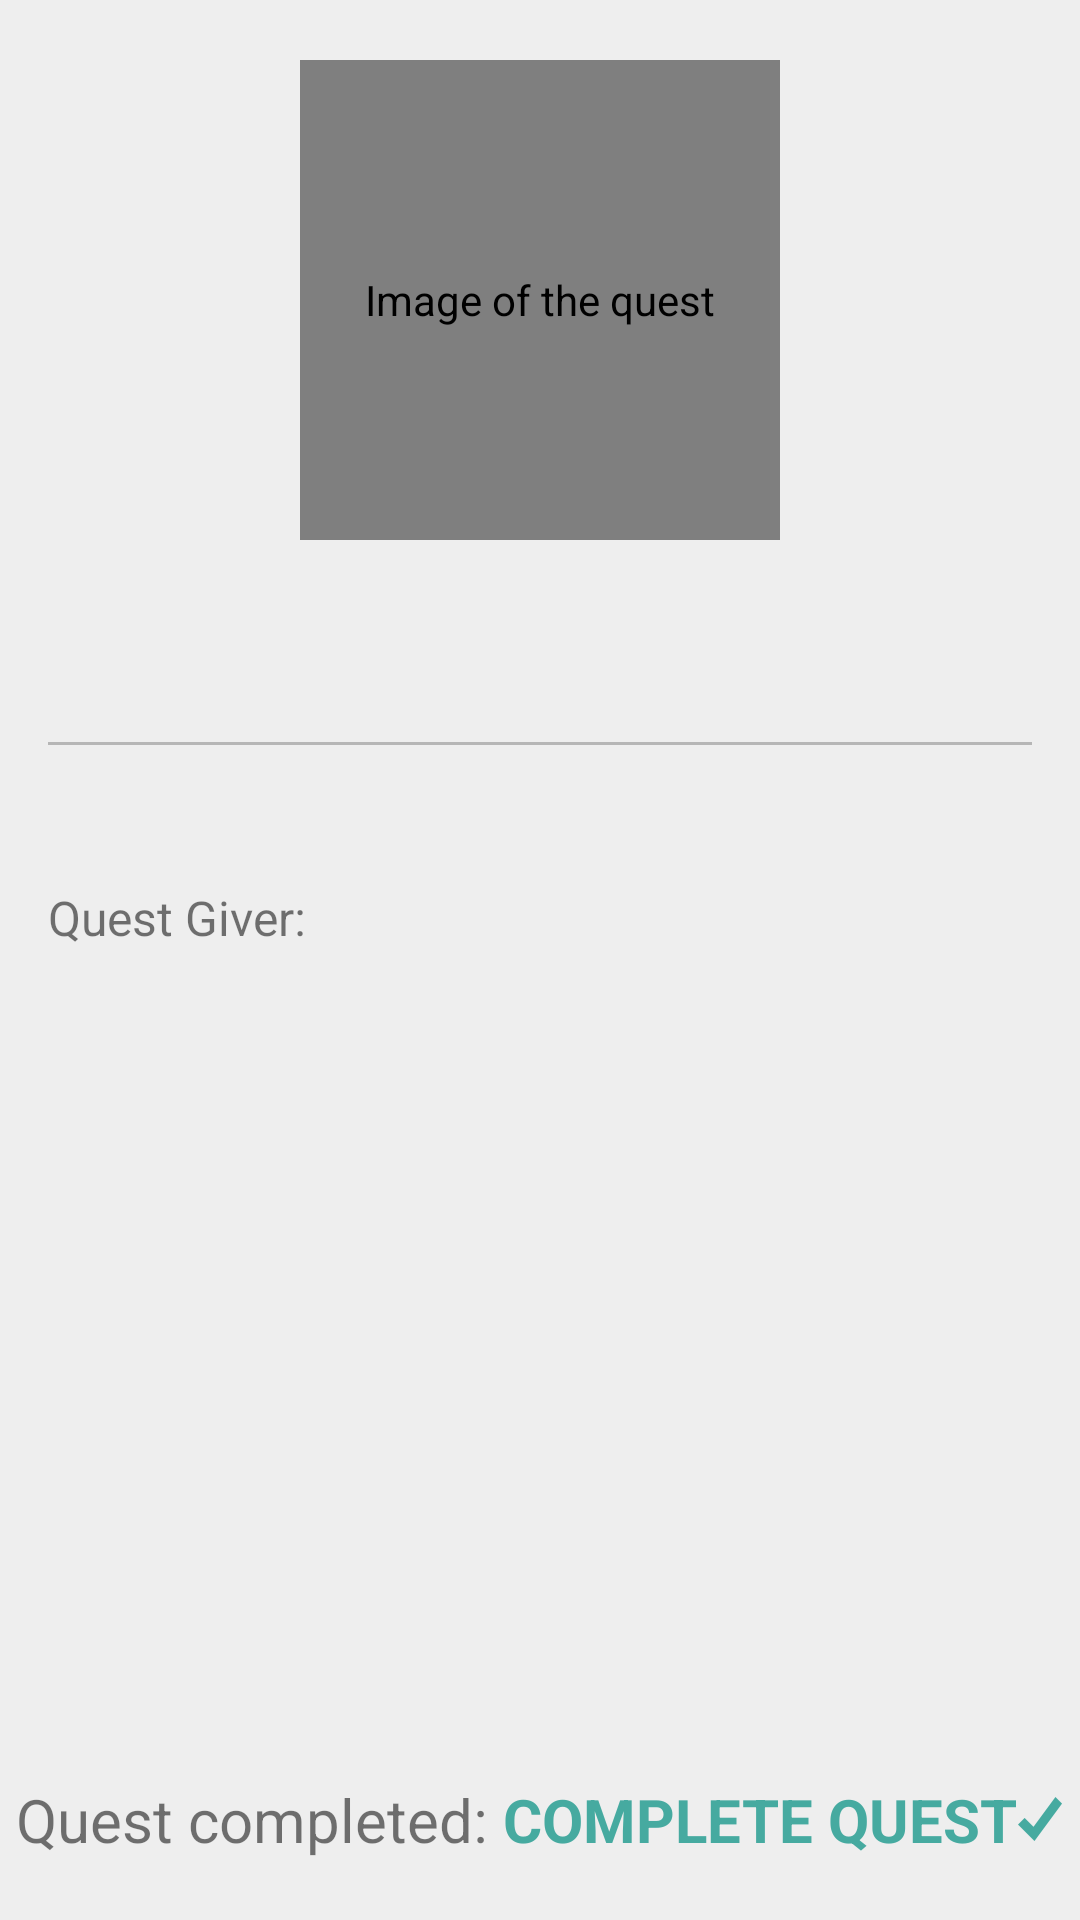

Icons on this 1080px x 1920px Android screen, each with the point to tap as point (x, y):
Image of a check mark: point (1040, 1819)
